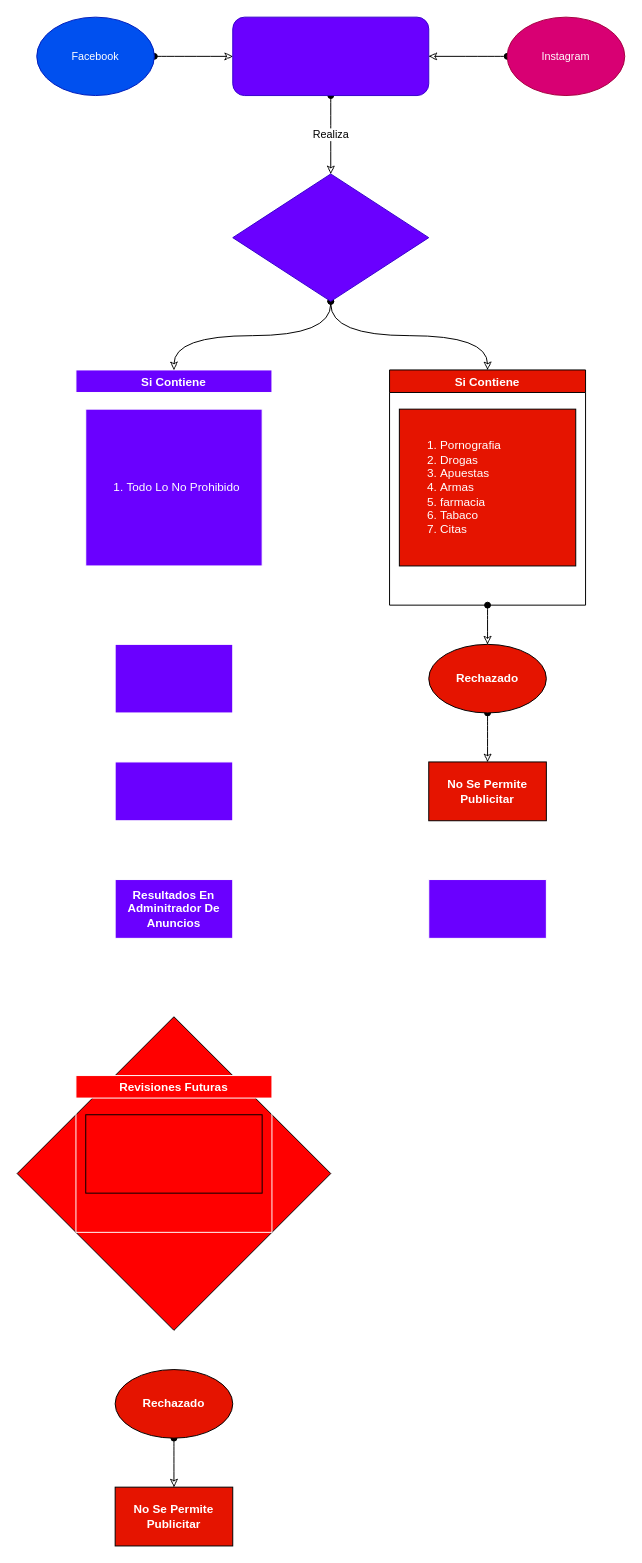
The diagram is 642 pixels wide and 1563 high, and some of its shapes have lost their labels. Here are the shapes that lost their labels. From the top down, the centre of each, then its label:
point 330,56: Meta
point 330,237: Evaluacion
point 173,678: Aprobado
point 173,791: Se Publca
point 487,908: Editar Publicacion
point 173,1153: Reacciones Negativas Marcado como Spam Ocultado
